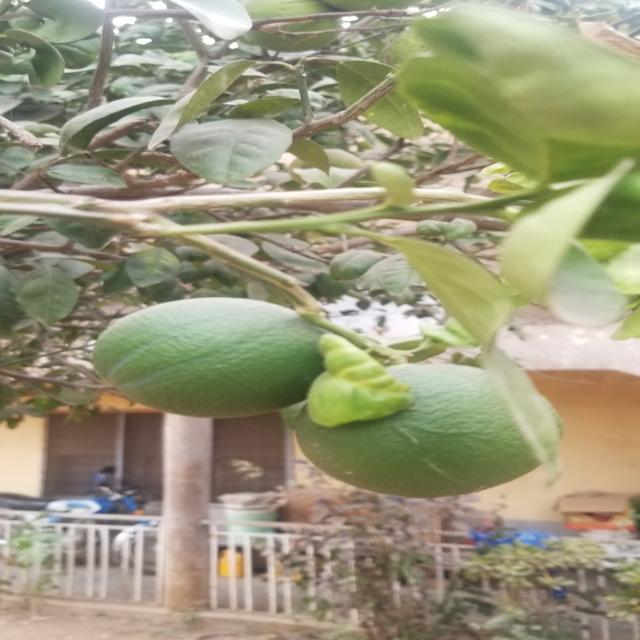Unripe: (290, 357, 562, 506), (81, 295, 352, 422)
